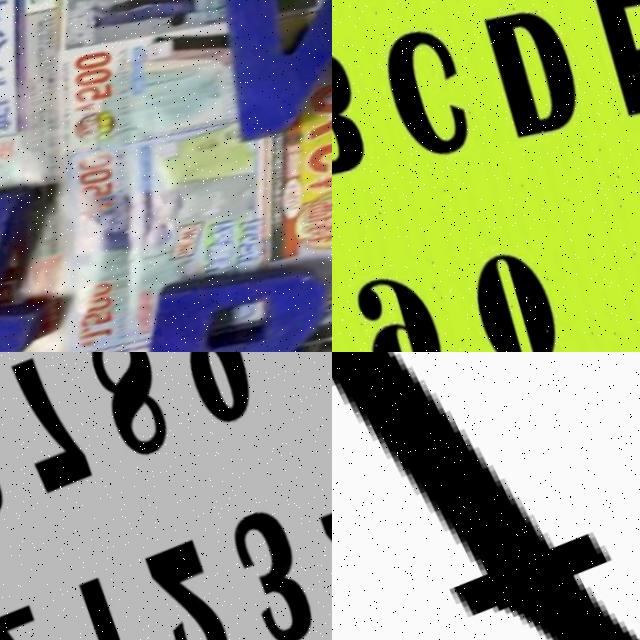0: (434, 205, 610, 352)
1: (32, 538, 176, 640)
2: (116, 510, 262, 640)
3: (200, 472, 332, 640)
4: (285, 443, 332, 630)
6: (0, 364, 36, 547)
7: (0, 352, 120, 513)
8: (59, 352, 210, 488), (332, 261, 369, 352)
9: (332, 233, 482, 352), (138, 352, 290, 447)
B: (83, 213, 332, 352)
F: (332, 352, 640, 640)
N: (178, 0, 332, 167)
